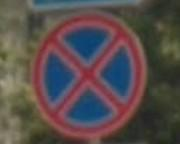No Parking: (31, 11, 149, 140)
